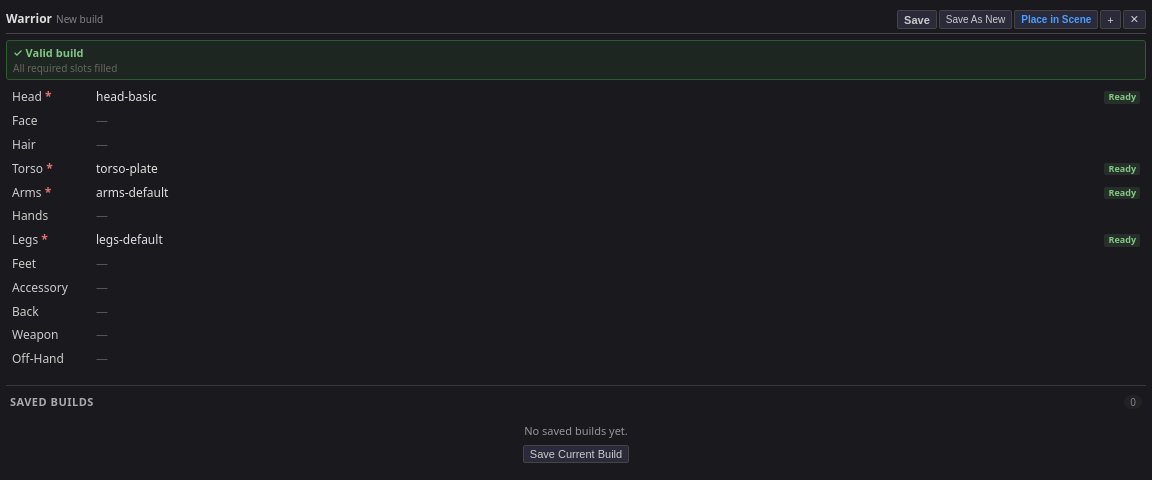
Test: build lifecycle › clear confirm resets on blur
Click the button with test id "char-clear-btn" at (1134, 20), box [1123,10,1146,29]
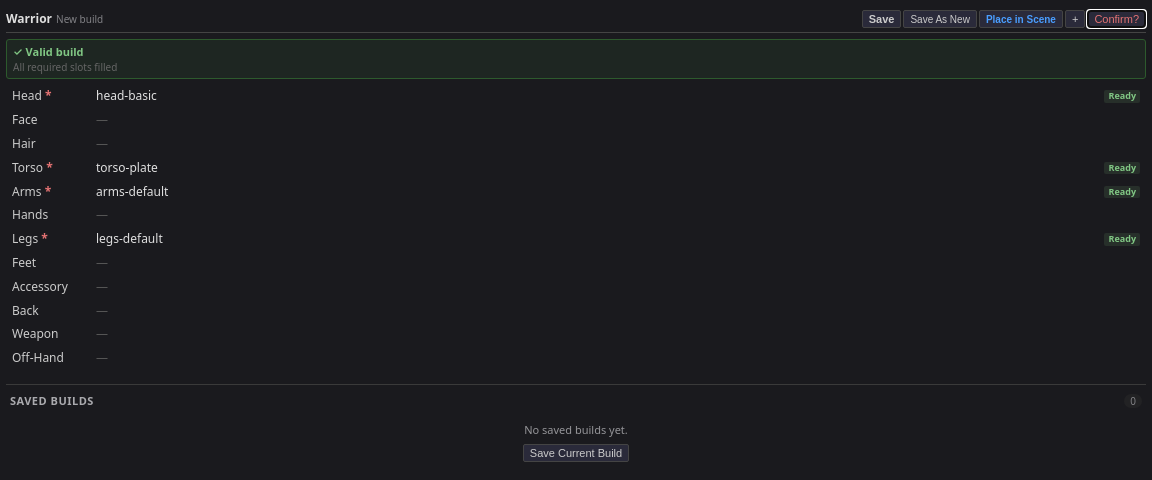
Expected: the button with test id "char-clear-btn" reads "Confirm?"
Leave the button with test id "char-clear-btn", box [1087,10,1146,28]
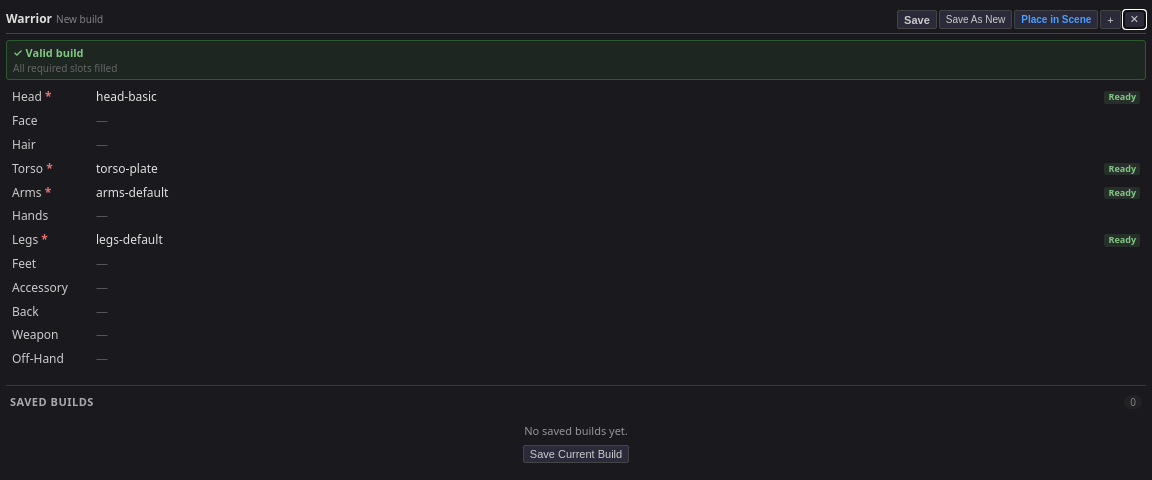
Expected: the button with test id "char-clear-btn" no longer shows "Confirm?"
